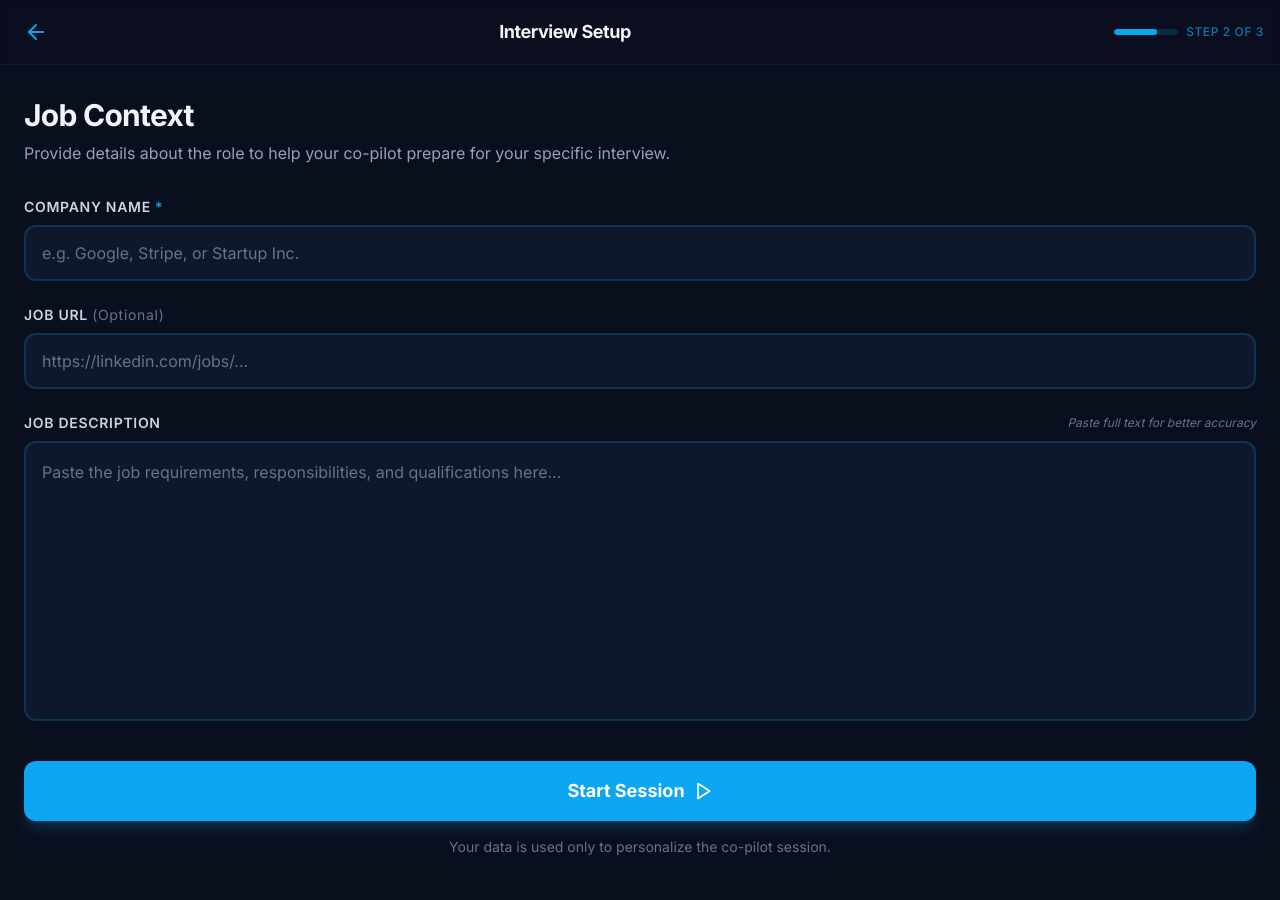
it: JobContextScreen › clears the validation error once the user starts typing
The image size is (1280, 900).
Click the button "Start Session": (640,791) [24, 761, 1256, 821]
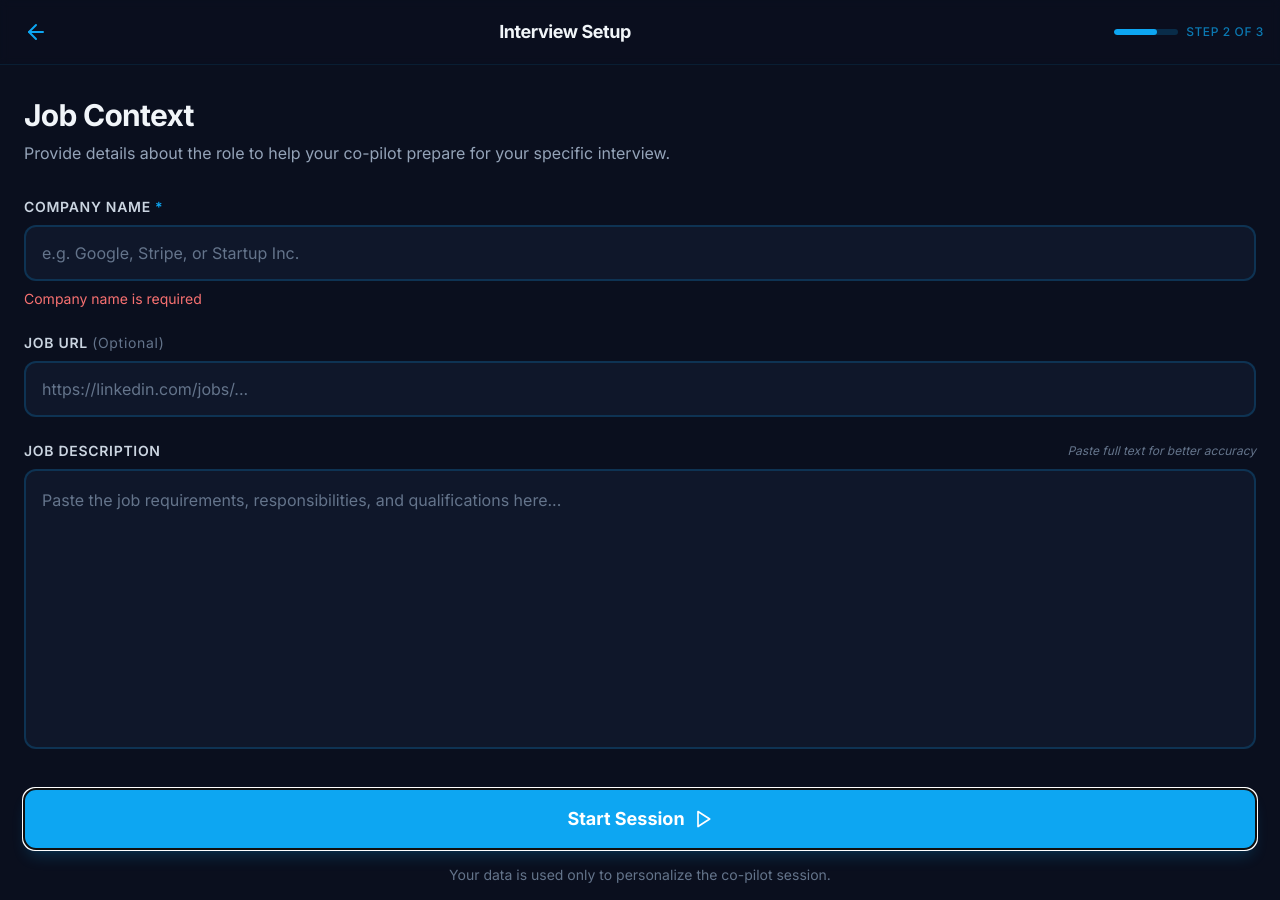
expect the message "Company name is required" is shown: met, box [24, 290, 202, 307]
In the field labelled "Company Name *": (640,253) [24, 225, 1256, 281], type "G"
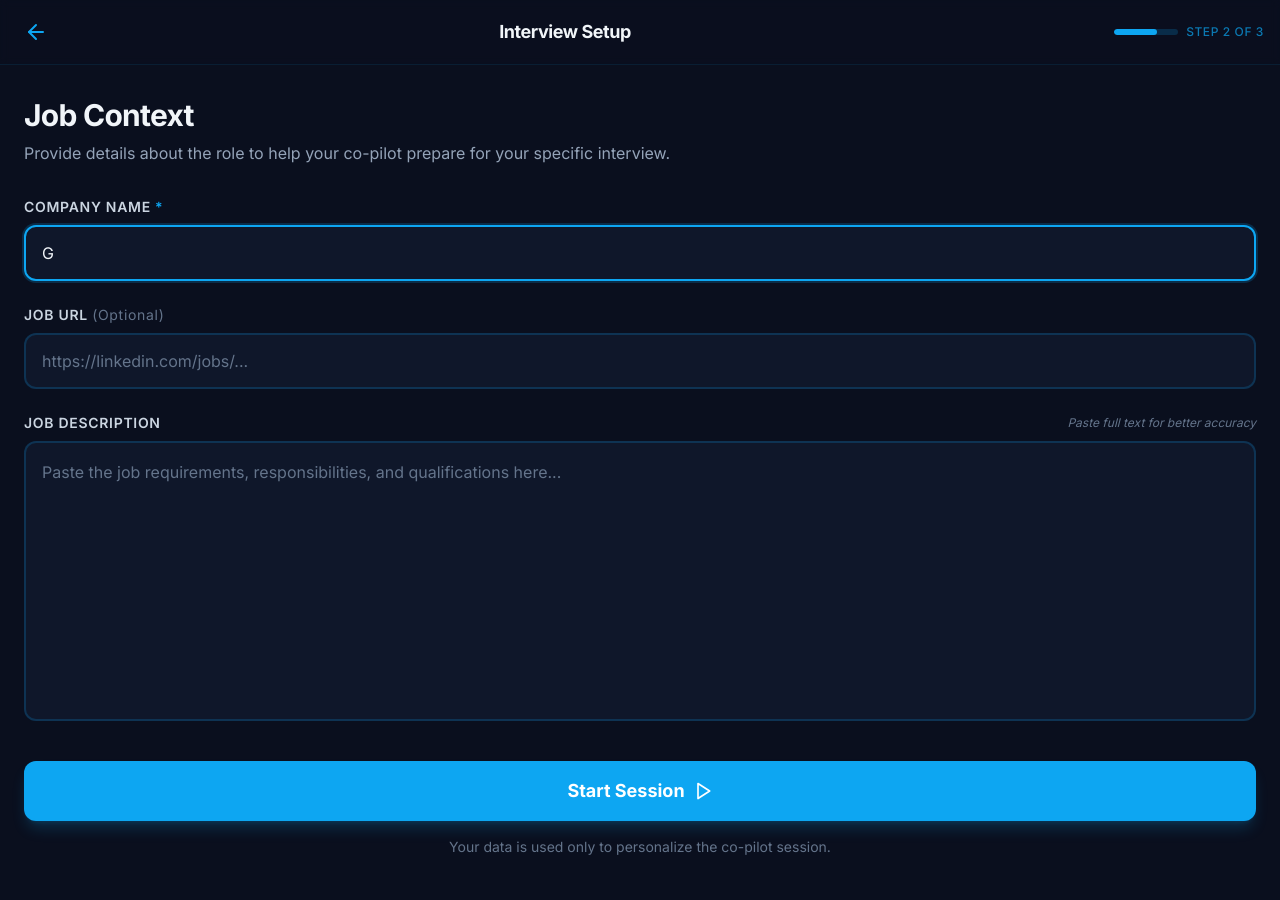
expect the message "Company name is required" is gone: met
